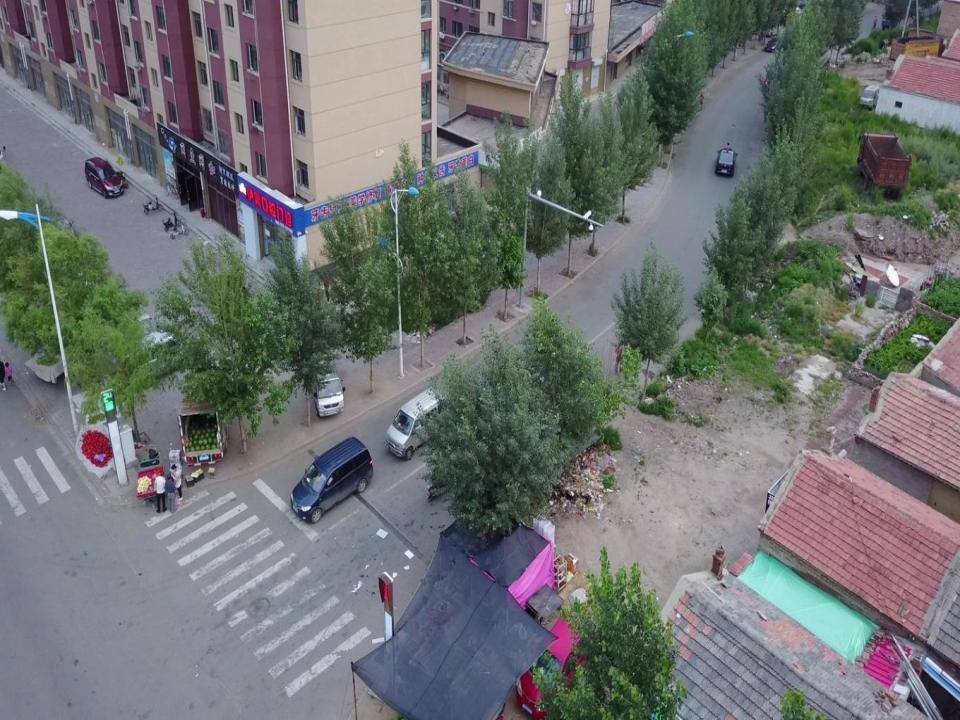car: (714, 142, 734, 177), (766, 34, 782, 54)
truck: (181, 367, 223, 463), (858, 133, 910, 193), (310, 349, 344, 413), (890, 33, 948, 60), (880, 9, 900, 31)
van: (290, 438, 374, 522), (386, 383, 450, 457), (86, 155, 125, 197), (860, 83, 880, 103)
